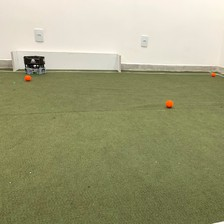ball: (162, 98, 174, 110), (22, 72, 33, 83), (208, 68, 218, 78)
goal: (8, 47, 123, 75)
robot: (22, 53, 47, 77)
